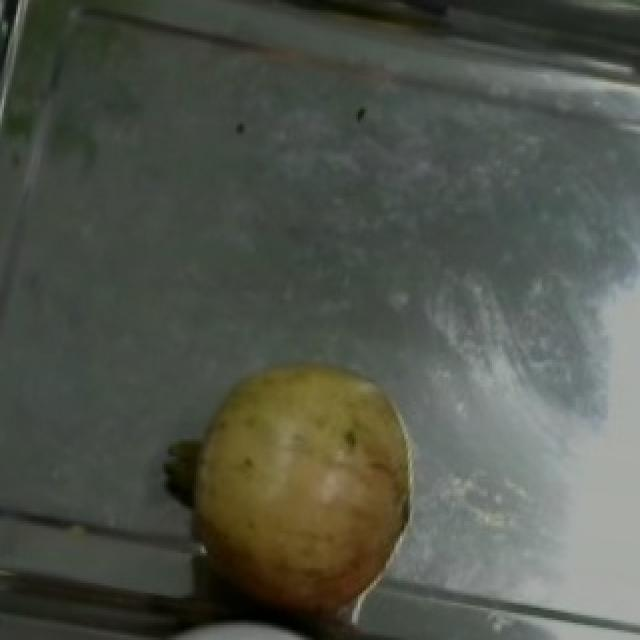fruit: (170, 327, 448, 578)
